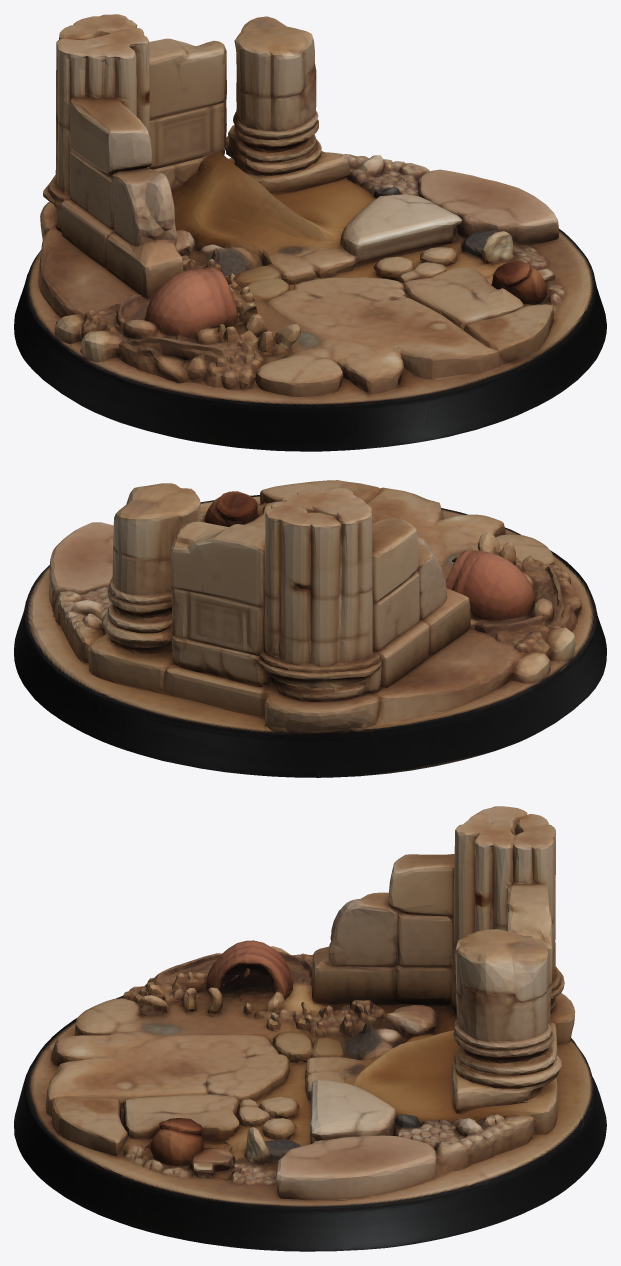
Rendered from Relic_minimap.glb.
3 views of the same model, one above another, from view 1: azimuth 30°, elevation 25°; view 2: azimuth 150°, elevation 25°; view 3: azimuth 270°, elevation 25° (orthographic).
Parts seen in each view (by area): view 1: world; view 2: world; view 3: world.
Part boxes in pixels (x1=…): world: x1=14, y1=14, x2=606, y2=451; world: x1=14, y1=480, x2=606, y2=777; world: x1=14, y1=806, x2=606, y2=1251.
Size of the model in its own units: 0.9992 by 0.4565 by 0.9987.
1 material, 1 textured.
